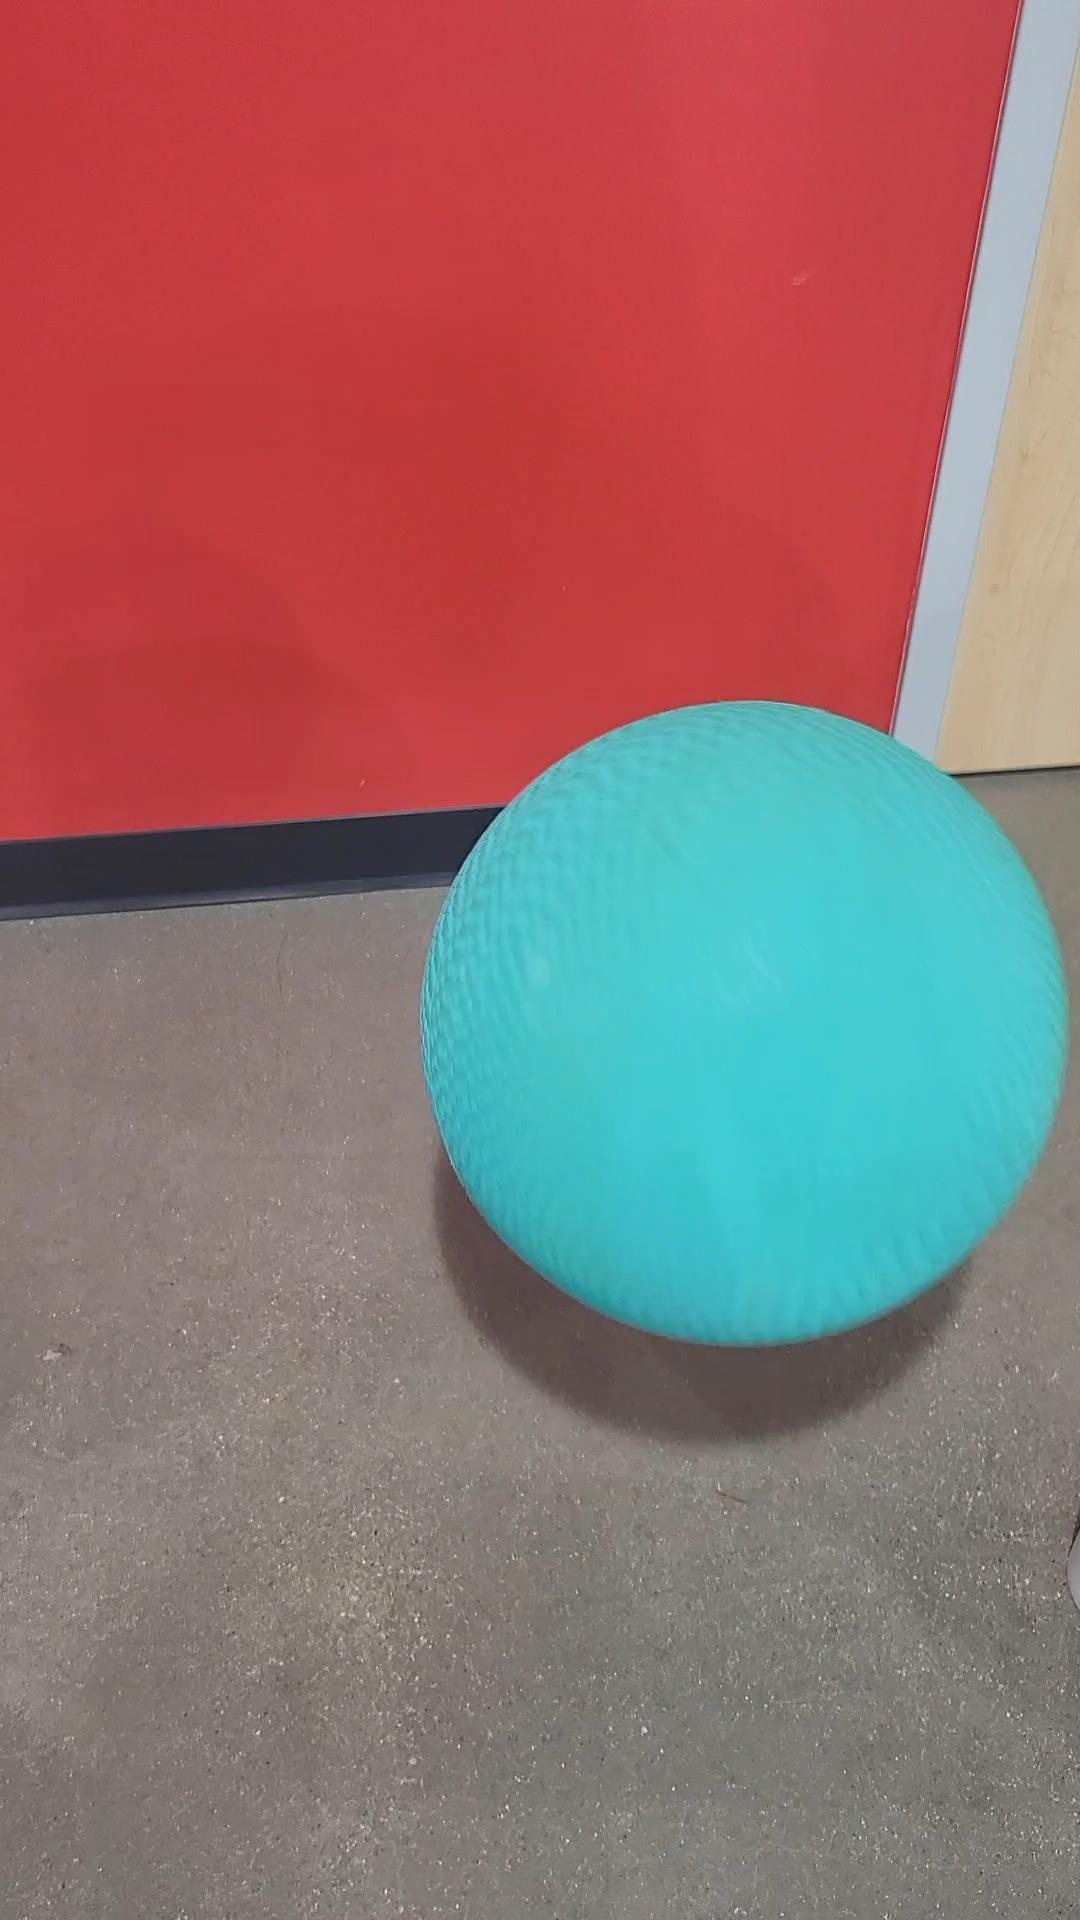algae: (421, 696, 1080, 1341)
